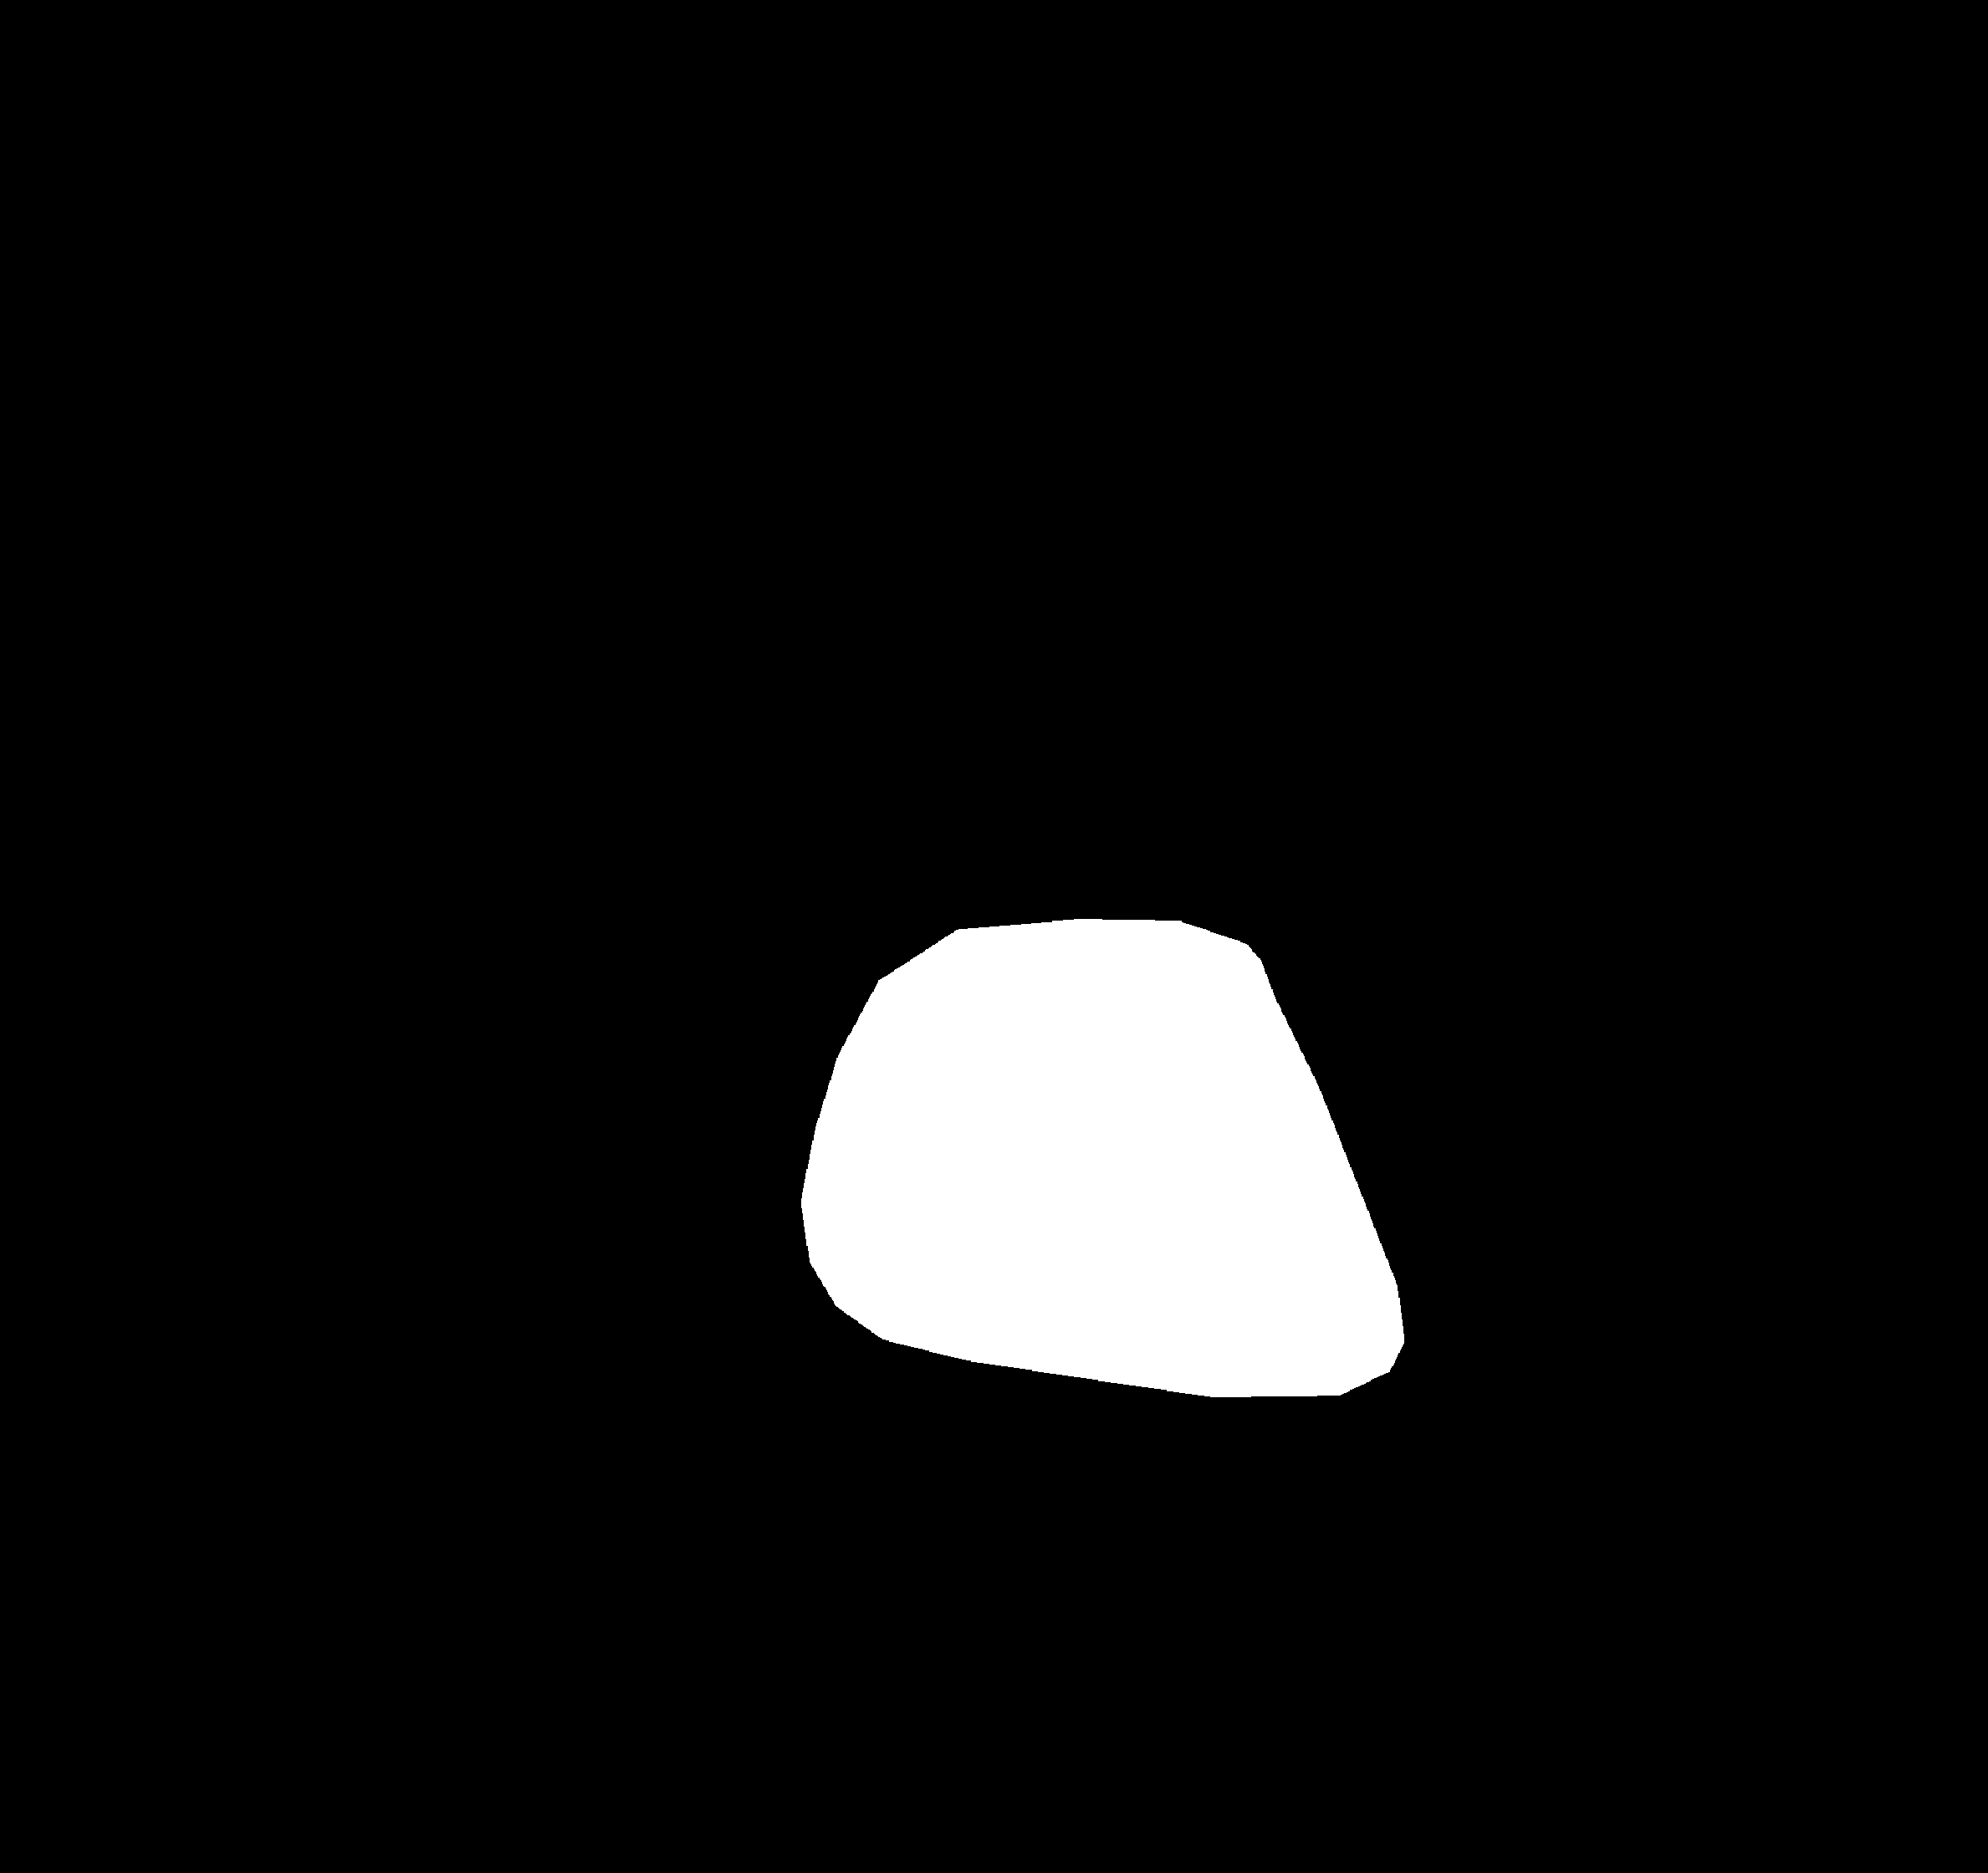heart: (819, 966, 1396, 1428)
left_lung: (268, 129, 863, 1517)
right_lung: (1071, 174, 1646, 1544)
